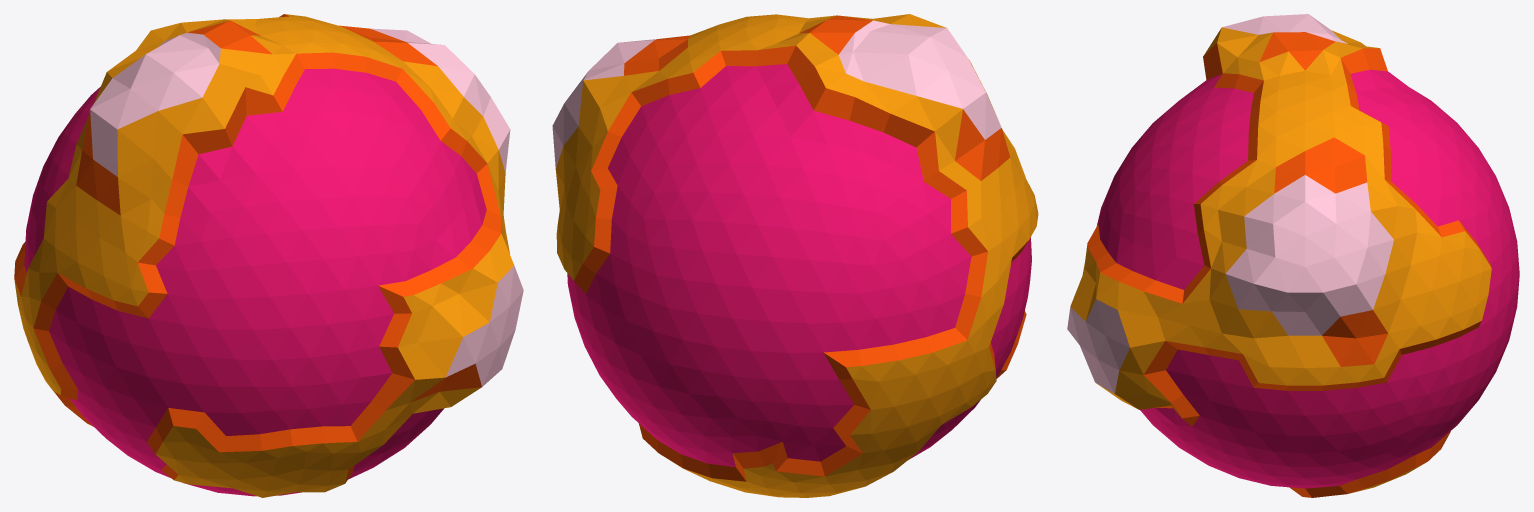
File: planet (1).gltf
3 renders of one model, left to right at view 1: azimuth 30°, elevation 25°; view 2: azimuth 150°, elevation 25°; view 3: azimuth 270°, elevation 25°, orthographic. The views are drawn at different scales.
Visible parts, largest first — view 1: Icosphere; view 2: Icosphere; view 3: Icosphere.
Boxes of the visible parts, box(x1,y1,x2,y2) form: Icosphere: box(14, 14, 523, 497); Icosphere: box(552, 14, 1038, 497); Icosphere: box(1067, 14, 1519, 497).
Size of the model in its own units: 4.24 by 4.24 by 4.16.
